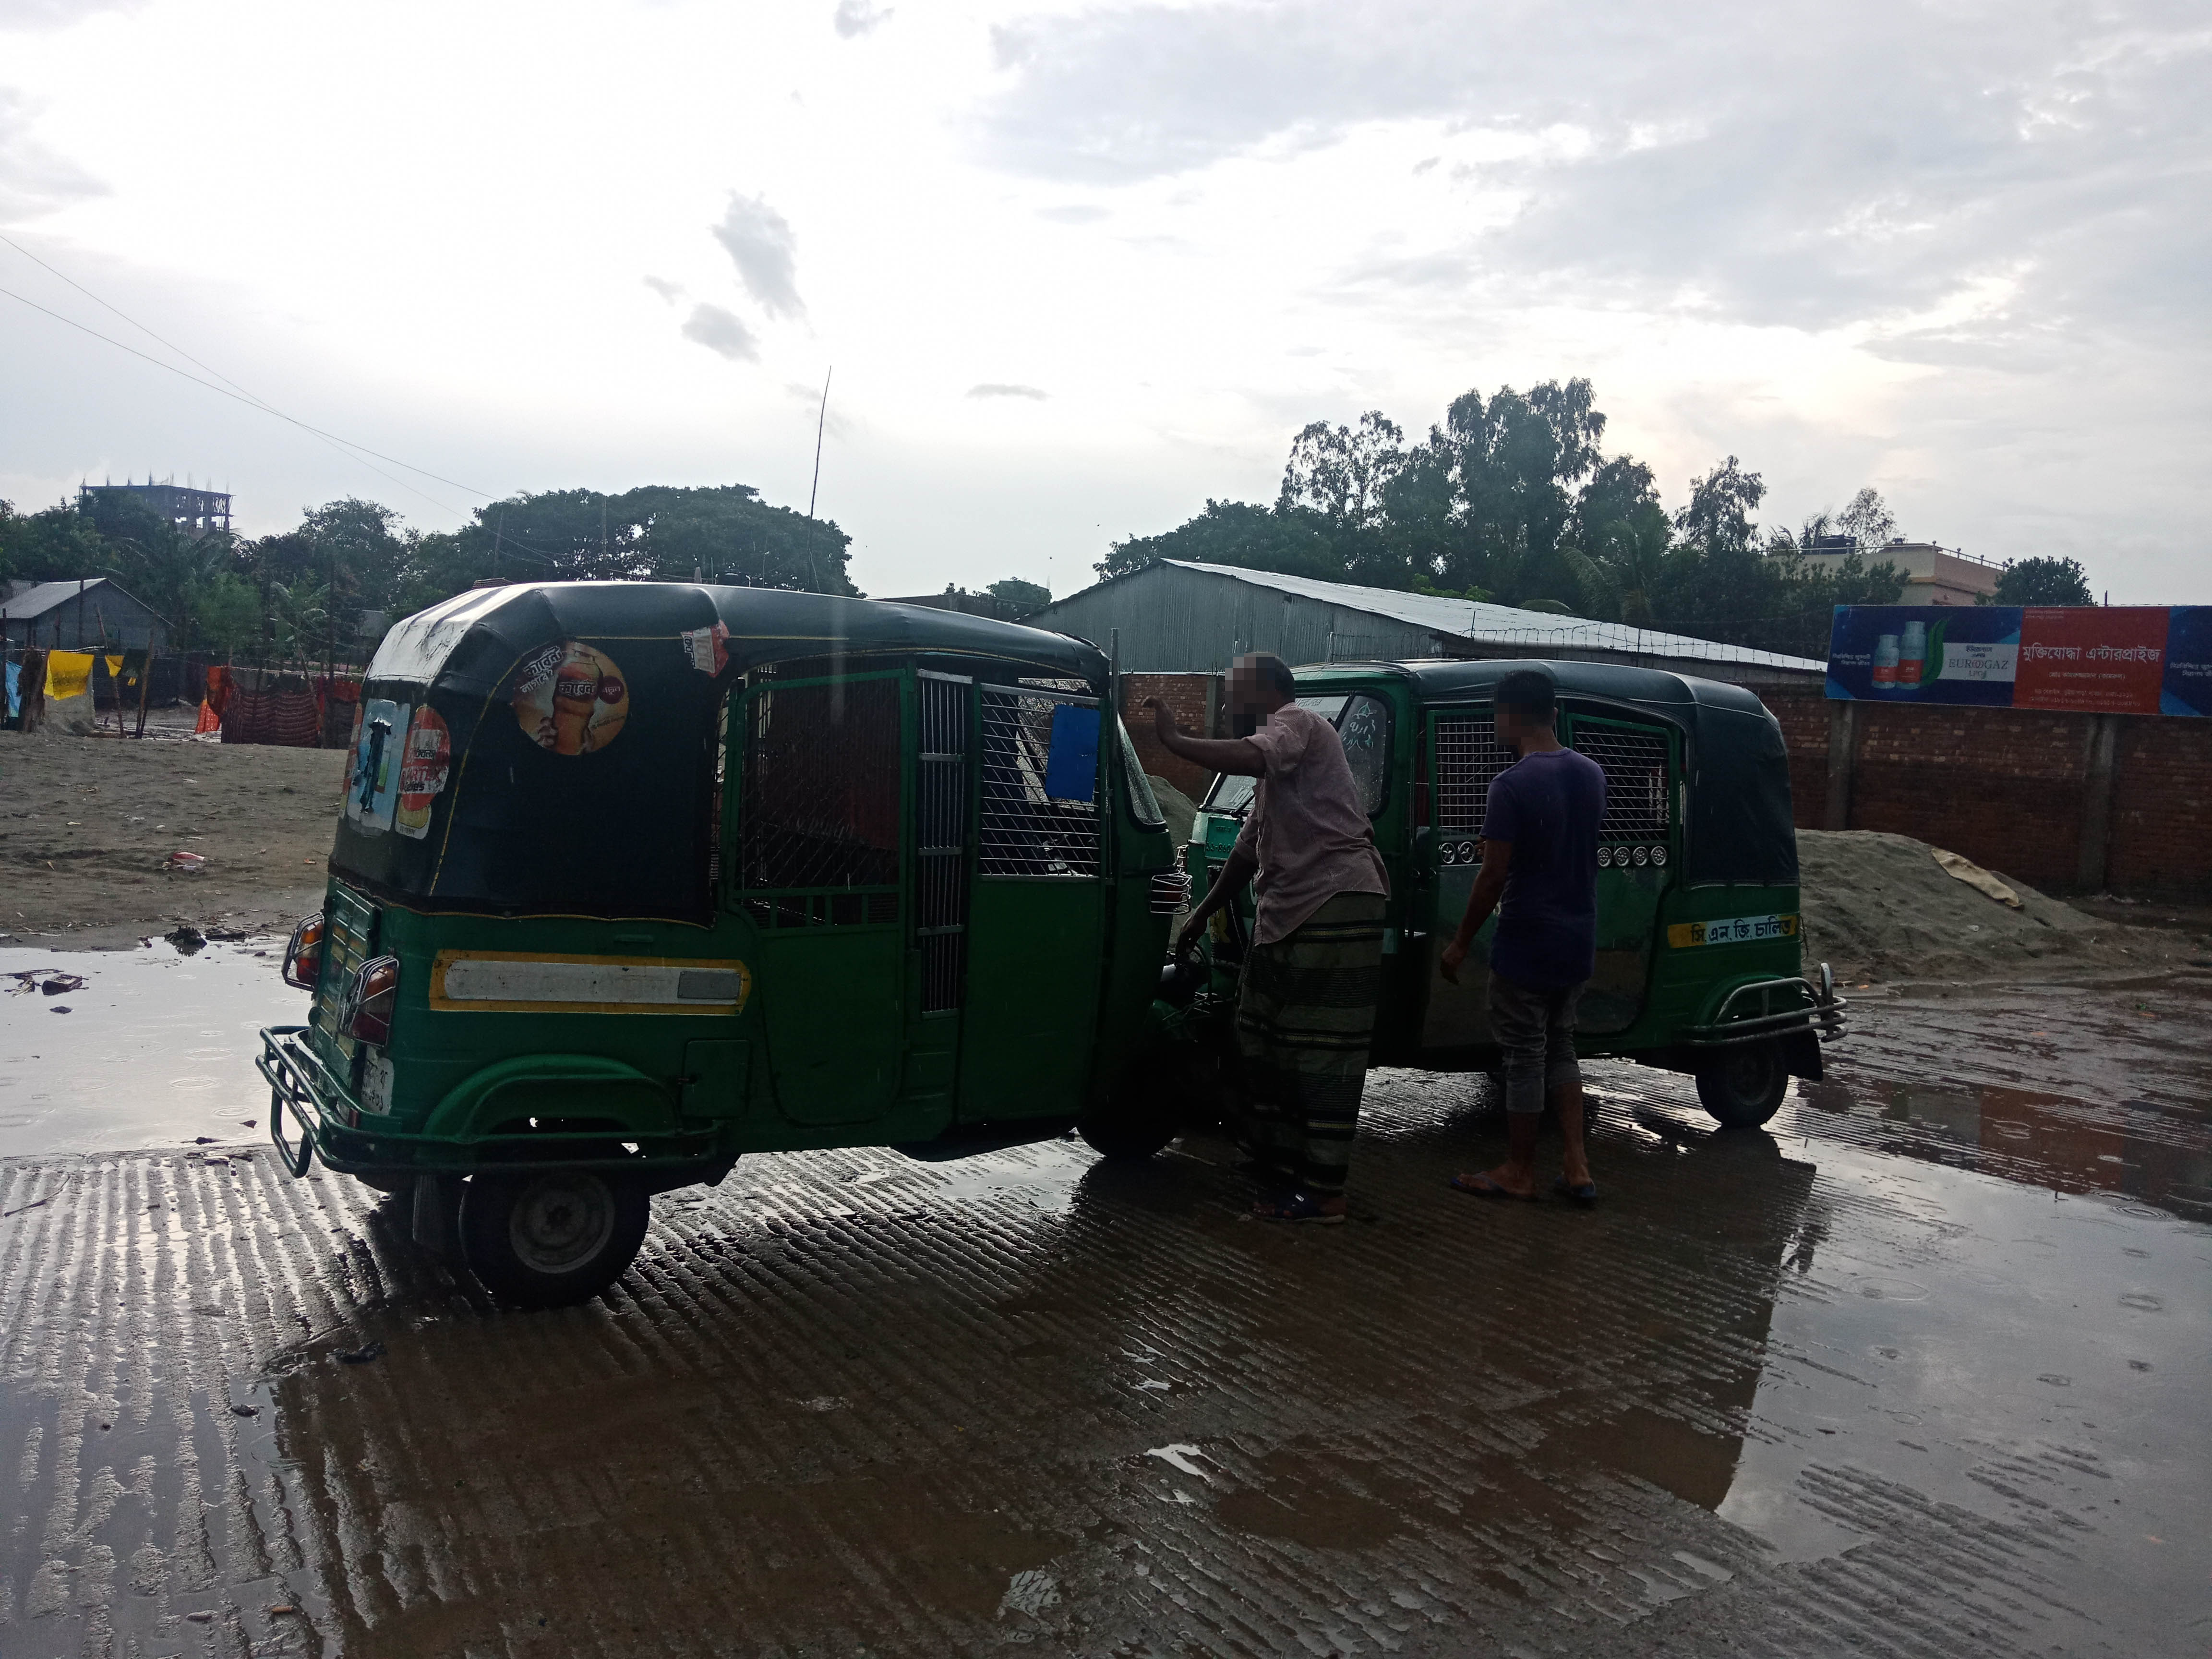cng: (232, 559, 1217, 1331), (1160, 634, 1862, 1154)
